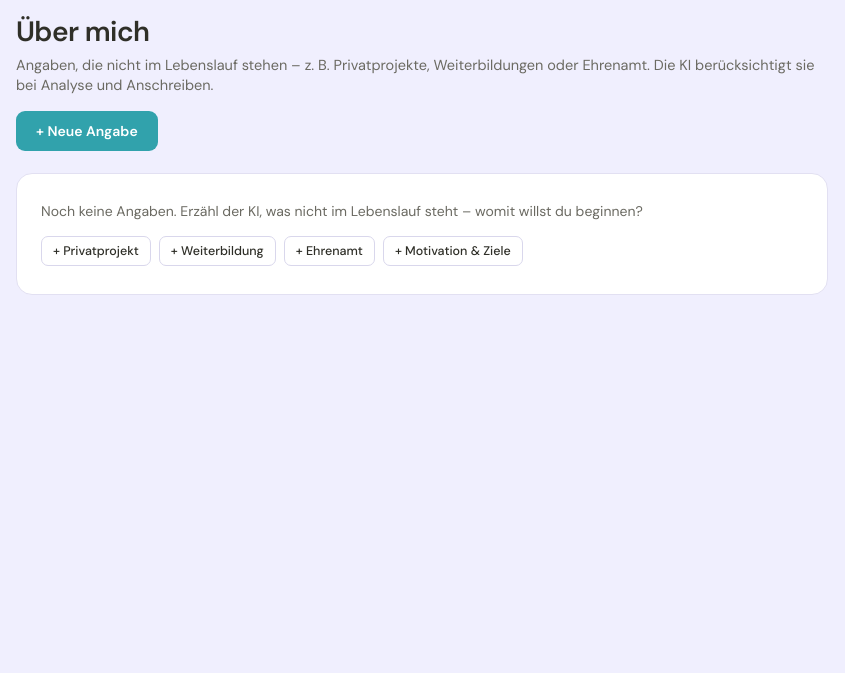
Scenario: AboutComponent › requires title and description
Click the button with class "jc-btn-primary".
click(87, 131)  # box [16,111,158,151]
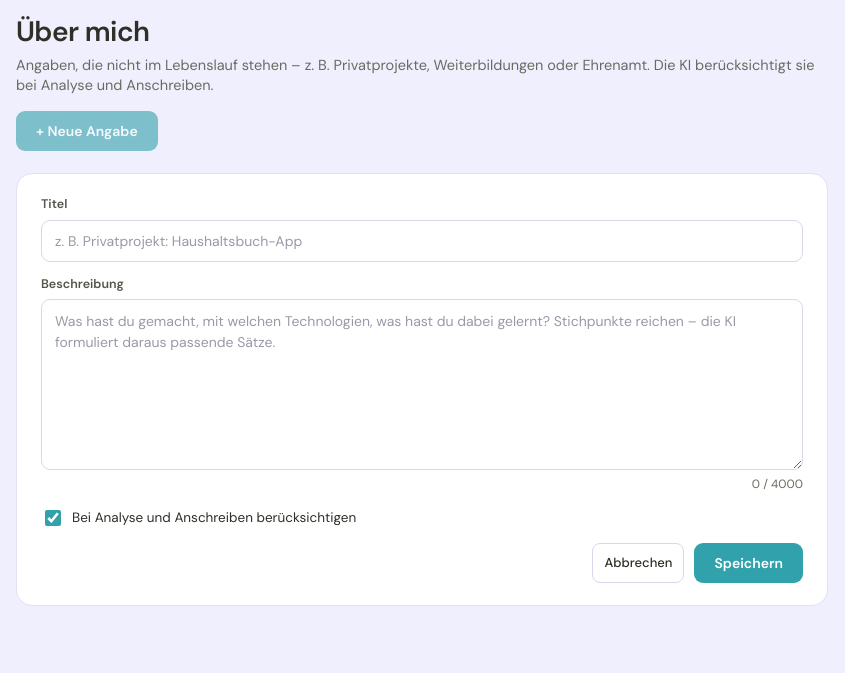
Click the submit button.
click(749, 563)  # box [694,543,803,583]
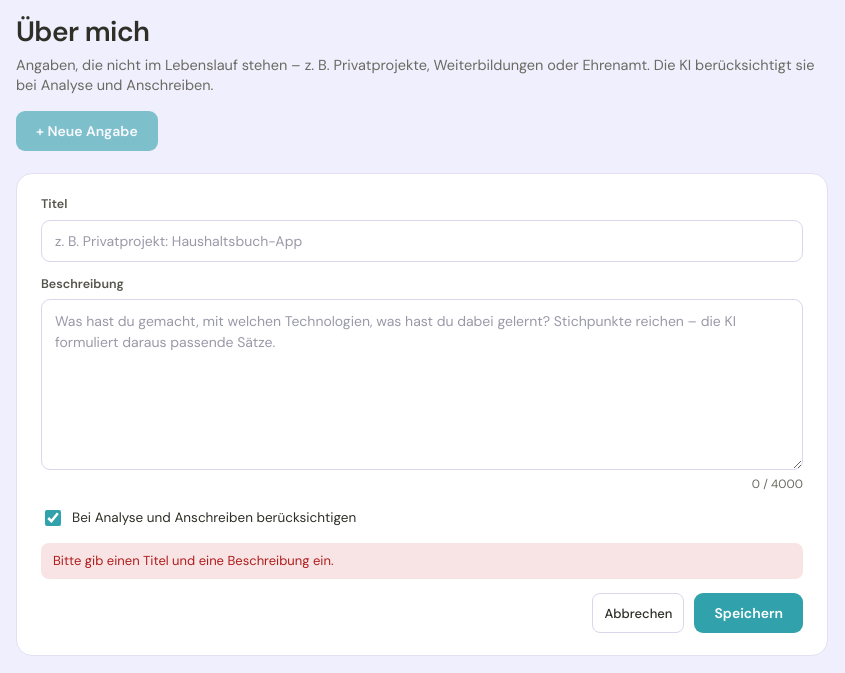
Expected: the message "Bitte gib einen Titel und eine Beschreibung ein." is shown, [41,543,803,579]
